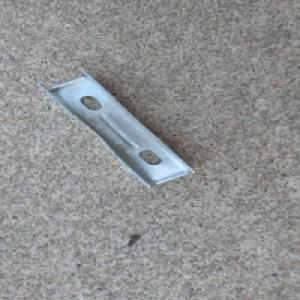ClampPart: (35, 69, 195, 187)
